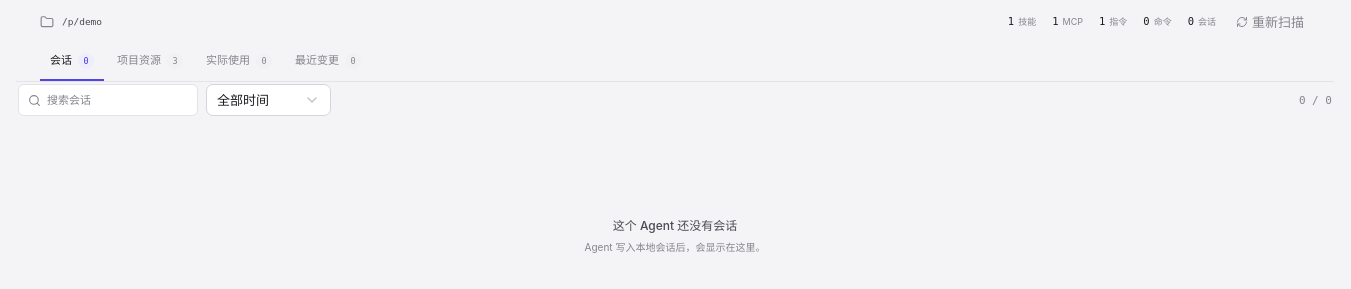
Test: aggregates project skills, mcp and instructions
The width and height of the screenshot is (1351, 289).
Click the tab "项目资源 3".
click(150, 62)  # box [107,43,193,81]
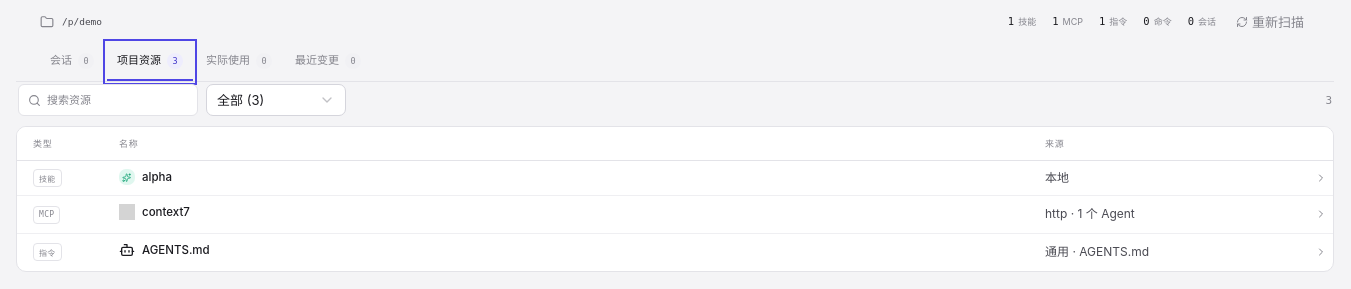
Check: the text "alpha" is shown, box [119,169,172,185]
Check: the text "context7" is shown, box [119,204,190,220]
Check: the text "AGENTS.md" is shown, box [119,242,210,258]
